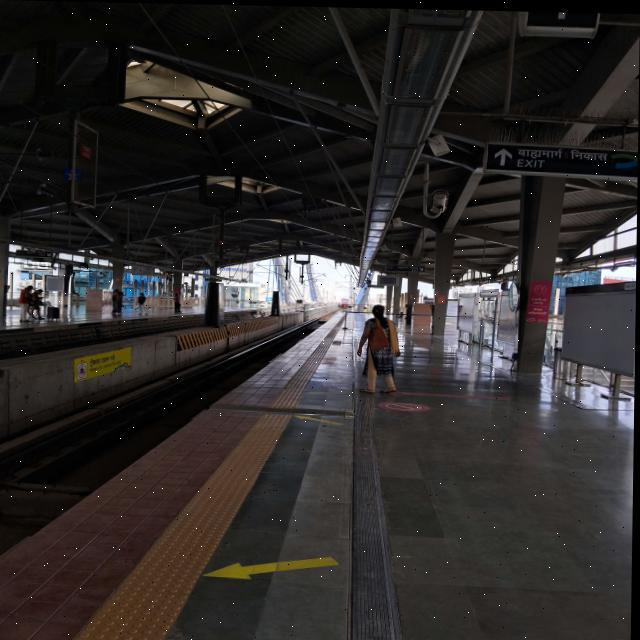train: (340, 295, 351, 306)
